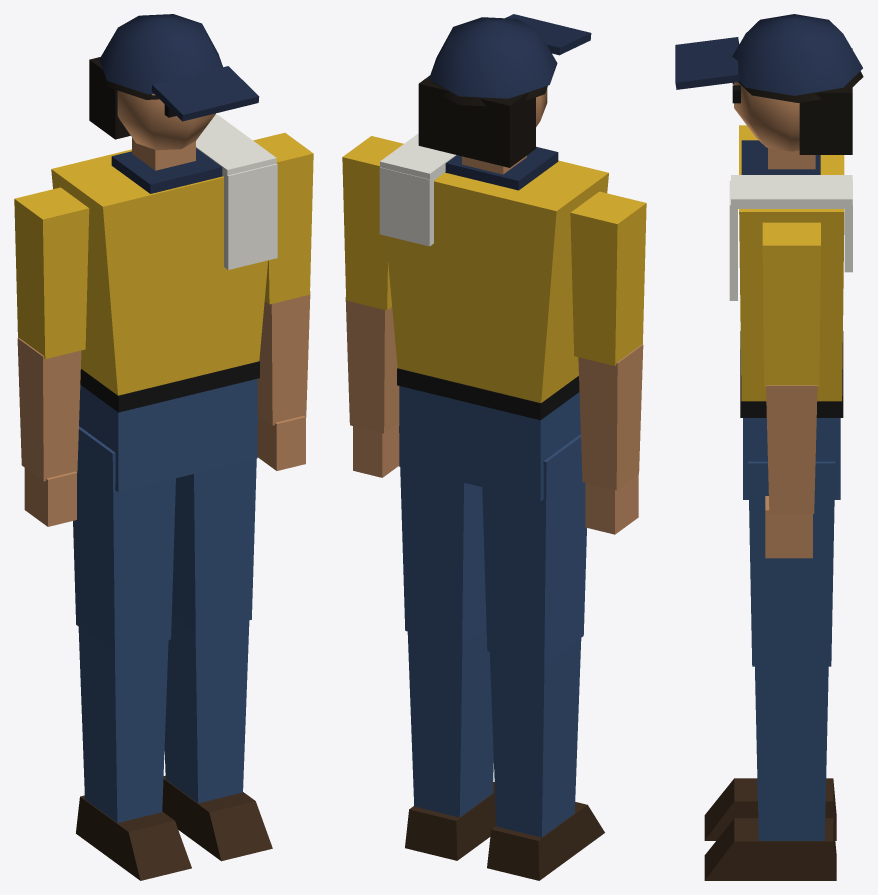
The model's file is ujang.glb.
3 views of the same model, side by side, from view 1: azimuth 30°, elevation 25°; view 2: azimuth 150°, elevation 25°; view 3: azimuth 270°, elevation 25° (orthographic).
Parts seen in each view (by area): view 1: torso, leg_r, leg_l, arm_r, head, arm_l; view 2: torso, leg_r, leg_l, arm_r, head, arm_l; view 3: leg_l, torso, arm_l, head, leg_r.
Boxes of the visible parts, bbox=[...] form: torso: bbox=[51, 114, 277, 492]; leg_r: bbox=[73, 426, 191, 880]; leg_l: bbox=[162, 418, 272, 861]; arm_r: bbox=[14, 187, 89, 526]; head: bbox=[89, 14, 259, 150]; arm_l: bbox=[253, 132, 313, 470]; torso: bbox=[379, 133, 608, 501]; leg_r: bbox=[482, 434, 604, 880]; leg_l: bbox=[399, 426, 496, 860]; arm_r: bbox=[570, 191, 646, 534]; head: bbox=[418, 14, 591, 167]; arm_l: bbox=[342, 136, 403, 477]; leg_l: bbox=[704, 461, 836, 880]; torso: bbox=[729, 125, 852, 499]; arm_l: bbox=[762, 222, 820, 558]; head: bbox=[675, 14, 863, 154]; leg_r: bbox=[704, 778, 836, 840].
Bounding box in the file's own units: 0.6035 × 1.73 × 0.3565.
